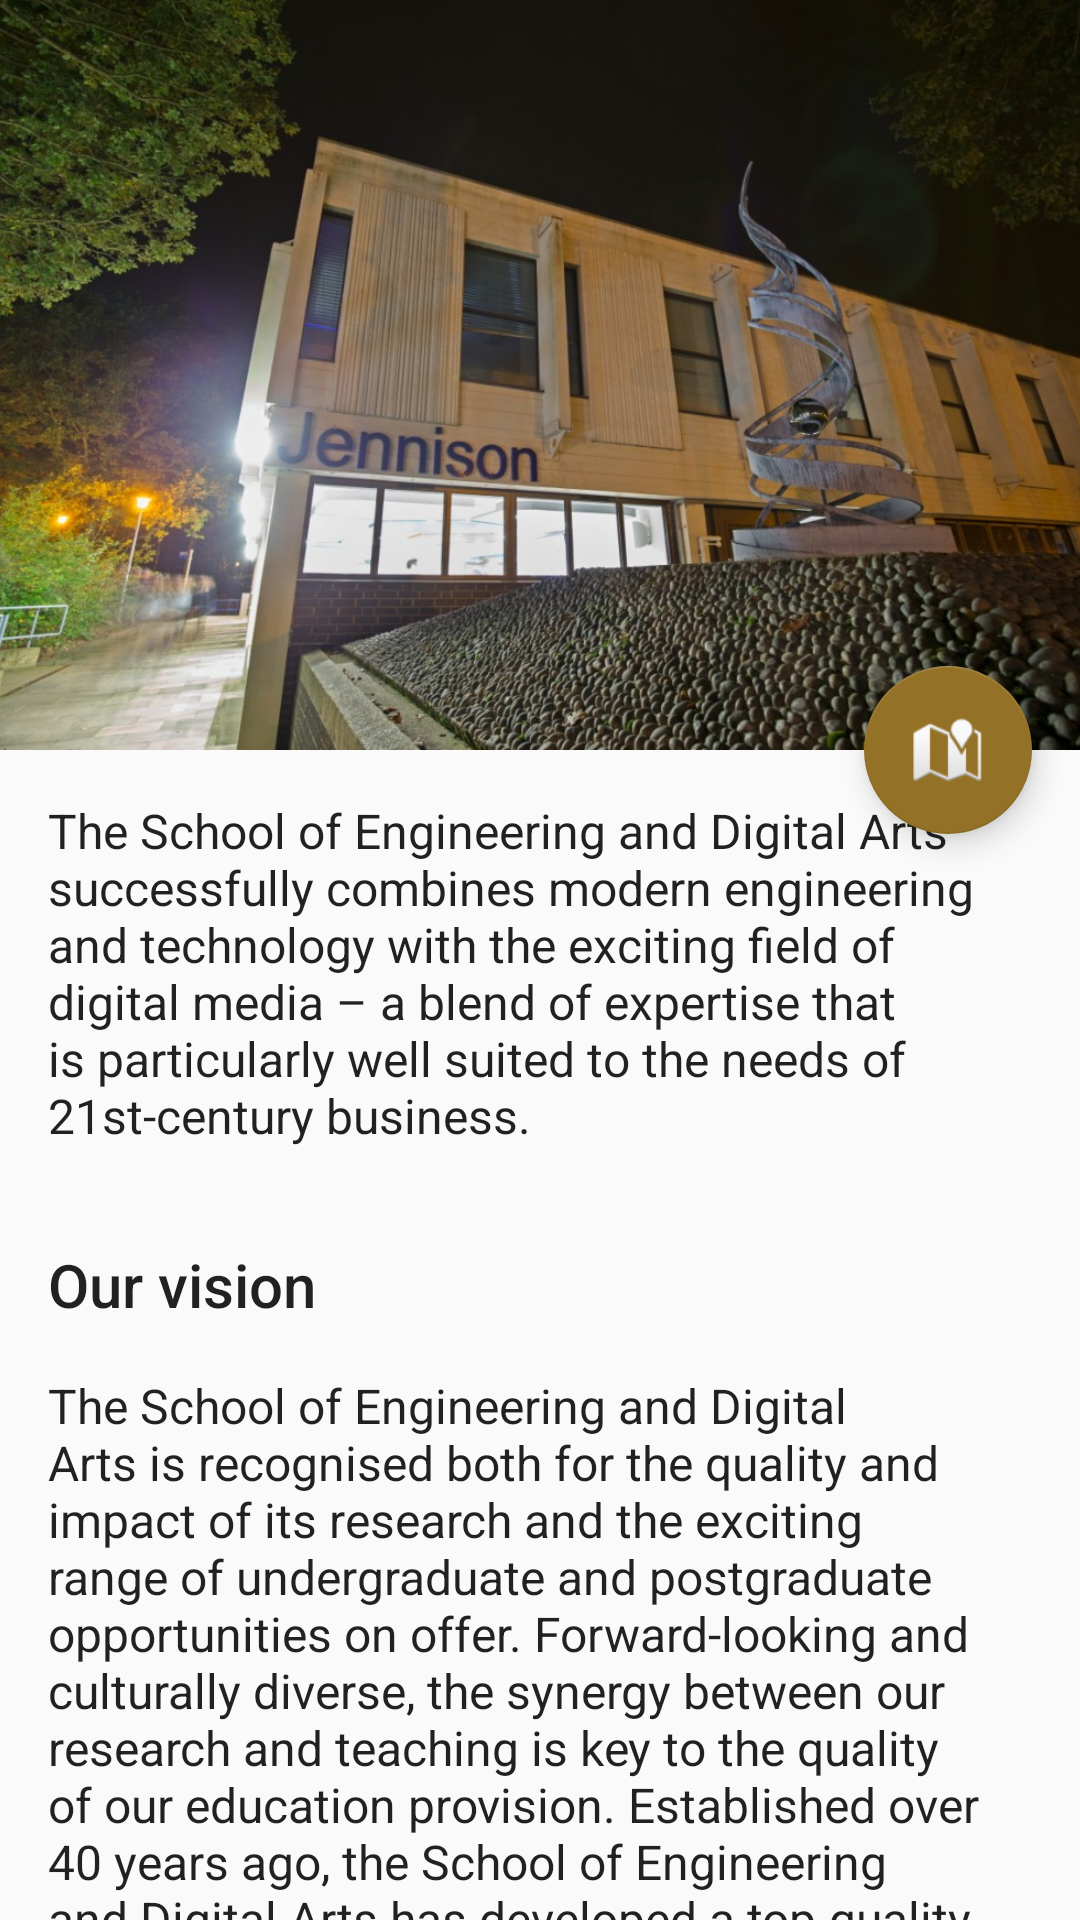

Where to tap for icons on this 1080px×1920px app screen, as [x,y]:
map: [948,750]
